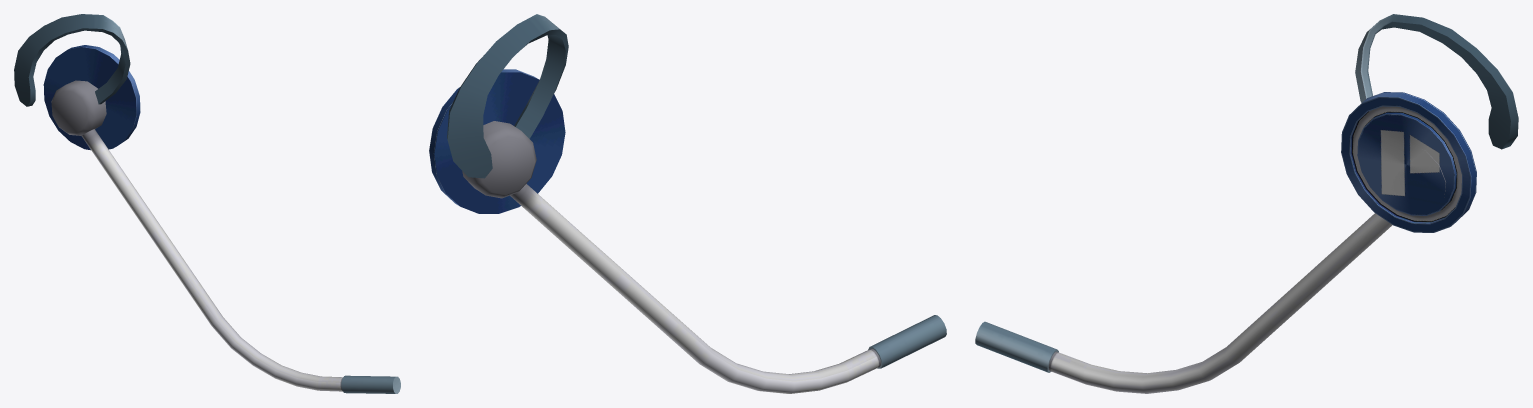
The model's file is EntrainingIntercomYuzuru.fbx.
3 renders of one model, left to right at view 1: azimuth 90°, elevation 25°; view 2: azimuth 150°, elevation 25°; view 3: azimuth 270°, elevation 25°, orthographic. The views are drawn at different scales.
Parts seen in each view (by area): view 1: EntrainingIntercomYuzuru; view 2: EntrainingIntercomYuzuru; view 3: EntrainingIntercomYuzuru.
Part boxes in pixels (box(x1,y1,x2,y2)): EntrainingIntercomYuzuru: box(14, 14, 400, 393); EntrainingIntercomYuzuru: box(429, 14, 946, 393); EntrainingIntercomYuzuru: box(975, 14, 1518, 393).
Bounding box in the file's own units: 0.0479 × 0.0717 × 0.0786.
Materials: 1 (1 with a texture image).
